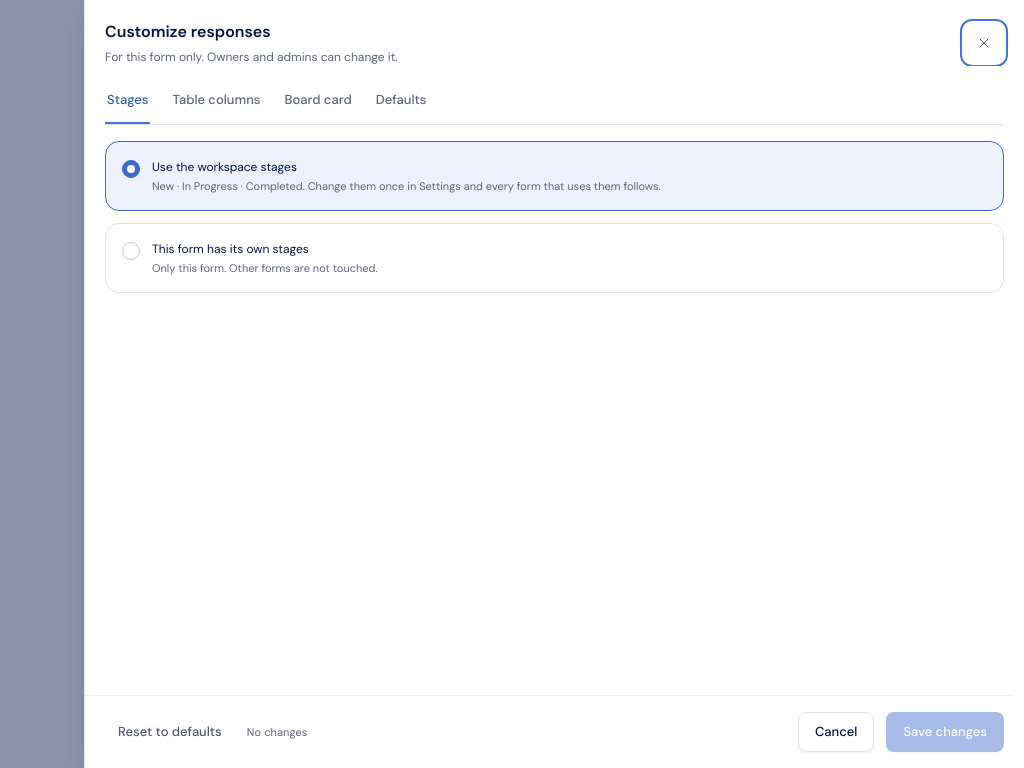
ResponsesCustomizeDrawer › a save that someone else got in first says so and offers their version
The image size is (1024, 768).
Click the tab "Defaults": click(401, 101) x1=374 y1=78 x2=428 y2=124
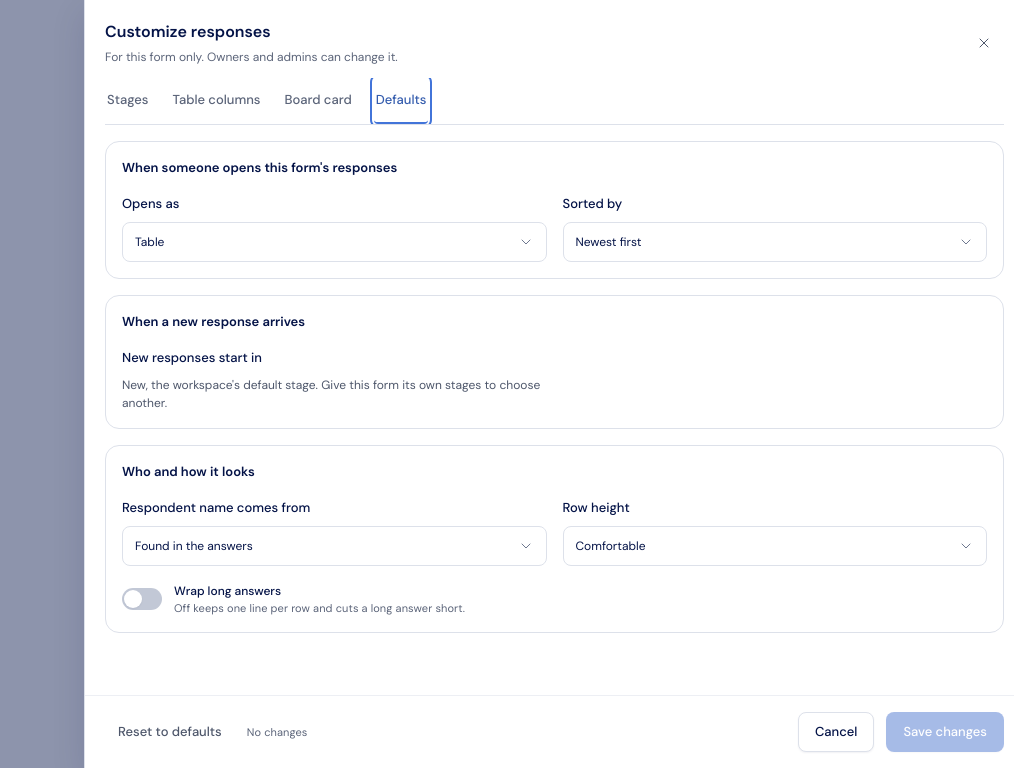
Select "Calendar" in the dropdown labelled "Opens as": (334, 242) x1=122 y1=222 x2=546 y2=262
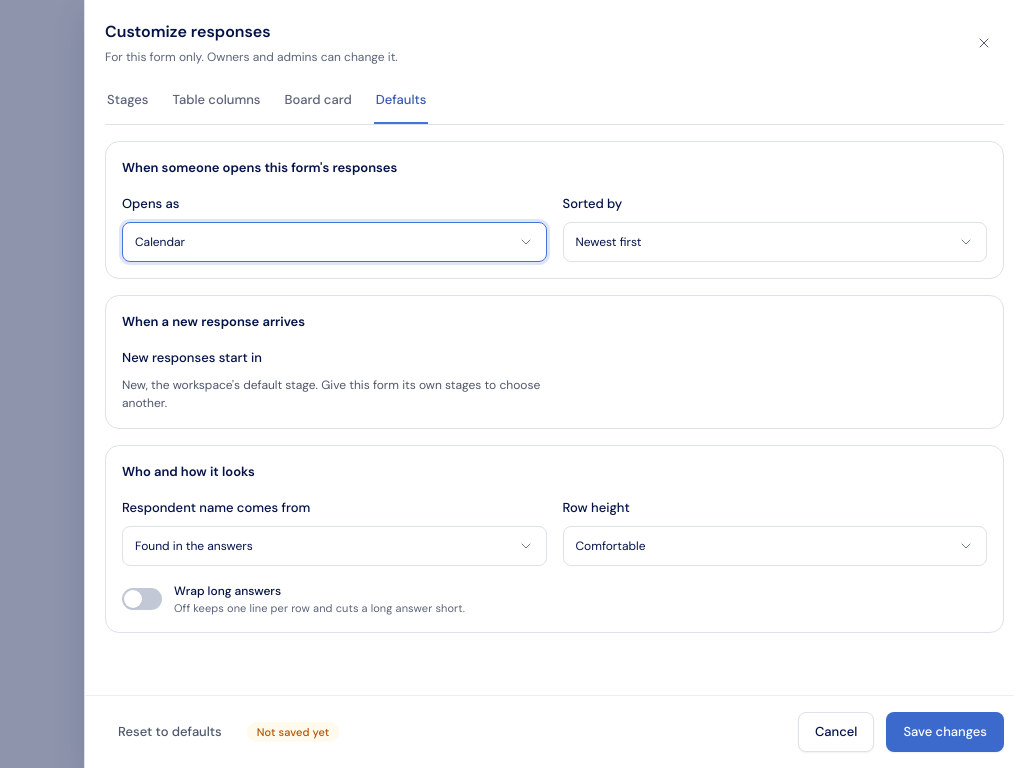
Click the button "Save changes": click(945, 732) x1=886 y1=712 x2=1004 y2=752
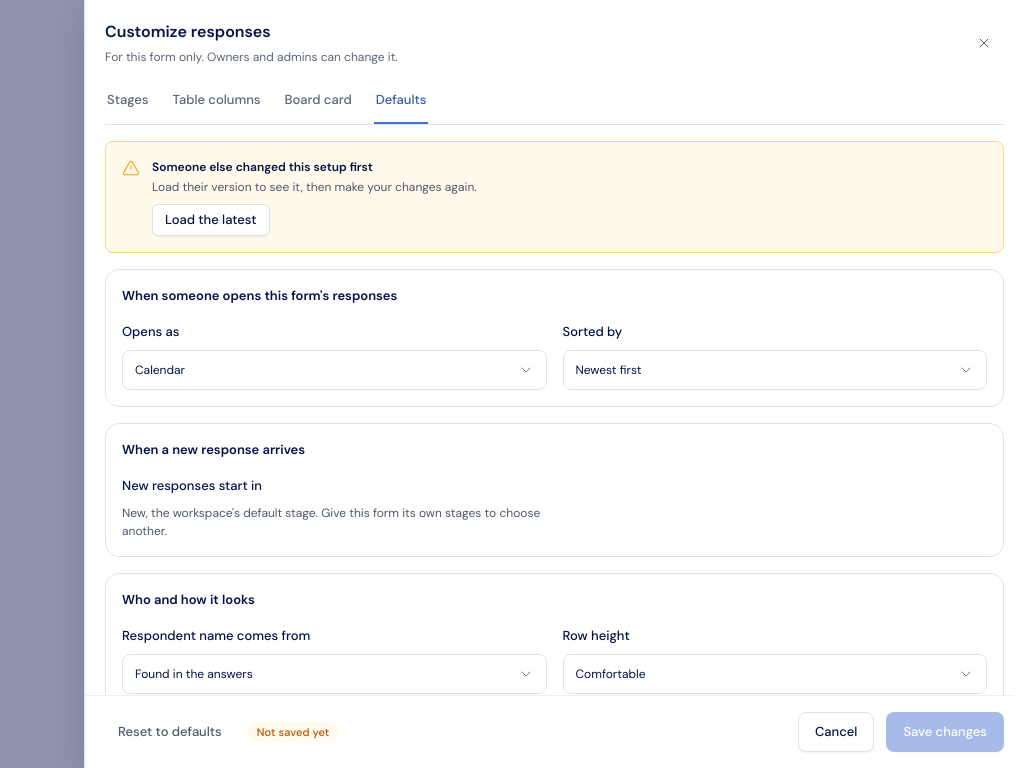
Check: the text "Someone else changed this setup first" is shown, box x1=152 y1=159 x2=373 y2=175
Check: the button "Save changes" is disabled, box x1=886 y1=712 x2=1004 y2=752
Click the button "Load the latest": click(211, 220) x1=152 y1=204 x2=270 y2=236
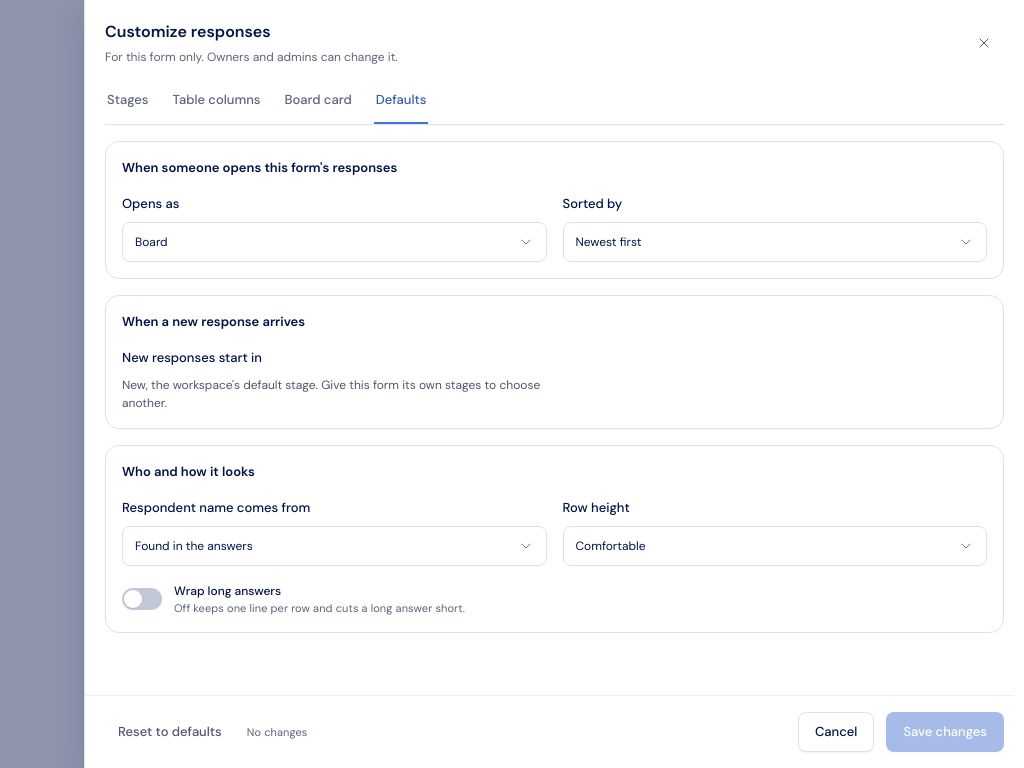
Check: the text "Someone else changed this setup first" is gone
Check: the message reads "No changes", box x1=247 y1=725 x2=308 y2=739
